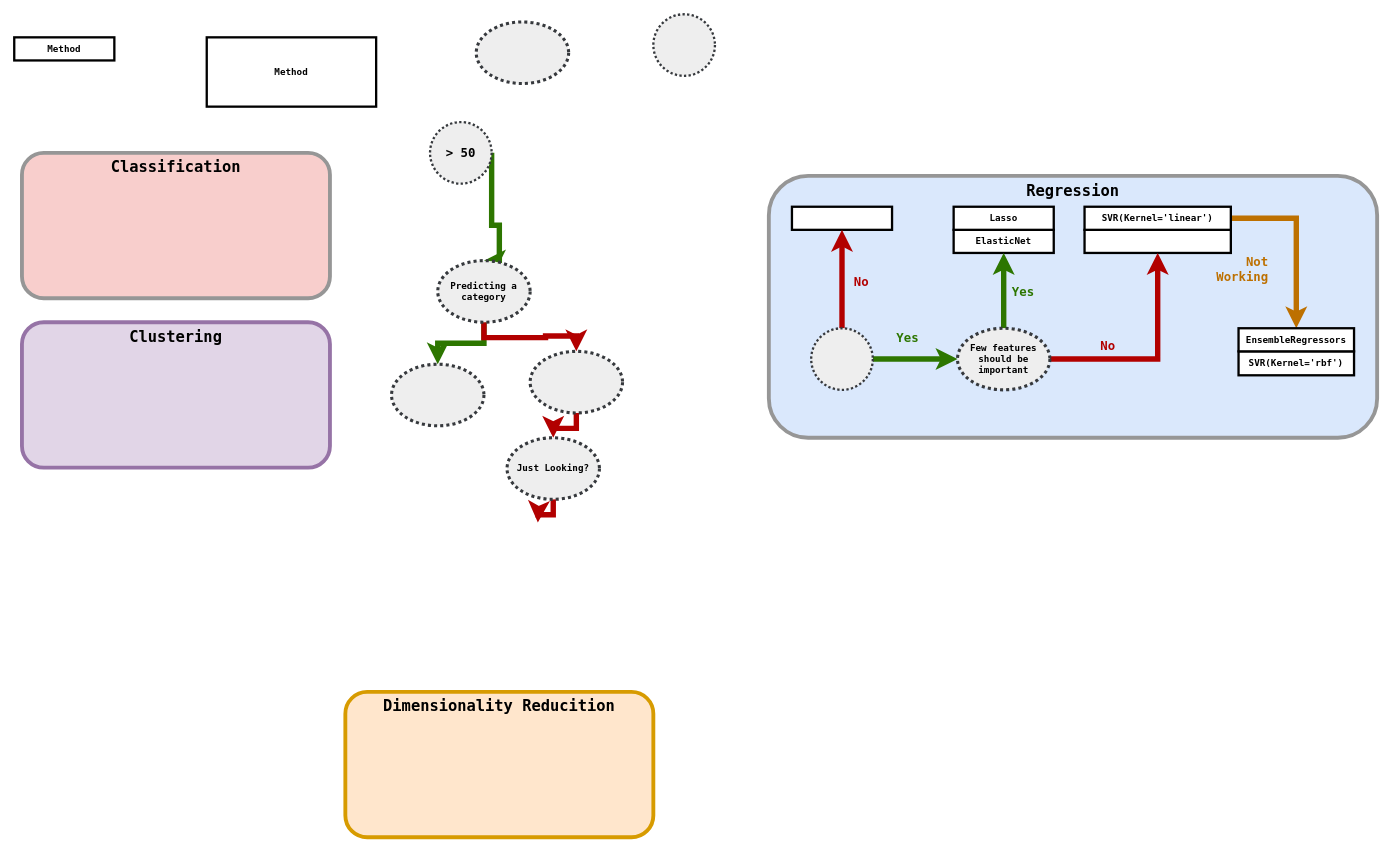
The diagram is 1392 pixels wide and 852 high, and some of its shapes have lost their labels. Here are the shapes that lost their labels. From the top down, the centre of each, then its label:
At point 522,52: "Condition".
At point 684,45: "Sample Size".
At point 841,218: "SGD Regressor".
At point 1157,241: "Ridge Regression".
At point 842,359: "<100k".
At point 437,394: "Labeled data?".
At point 576,381: "Predicting a quantity".
